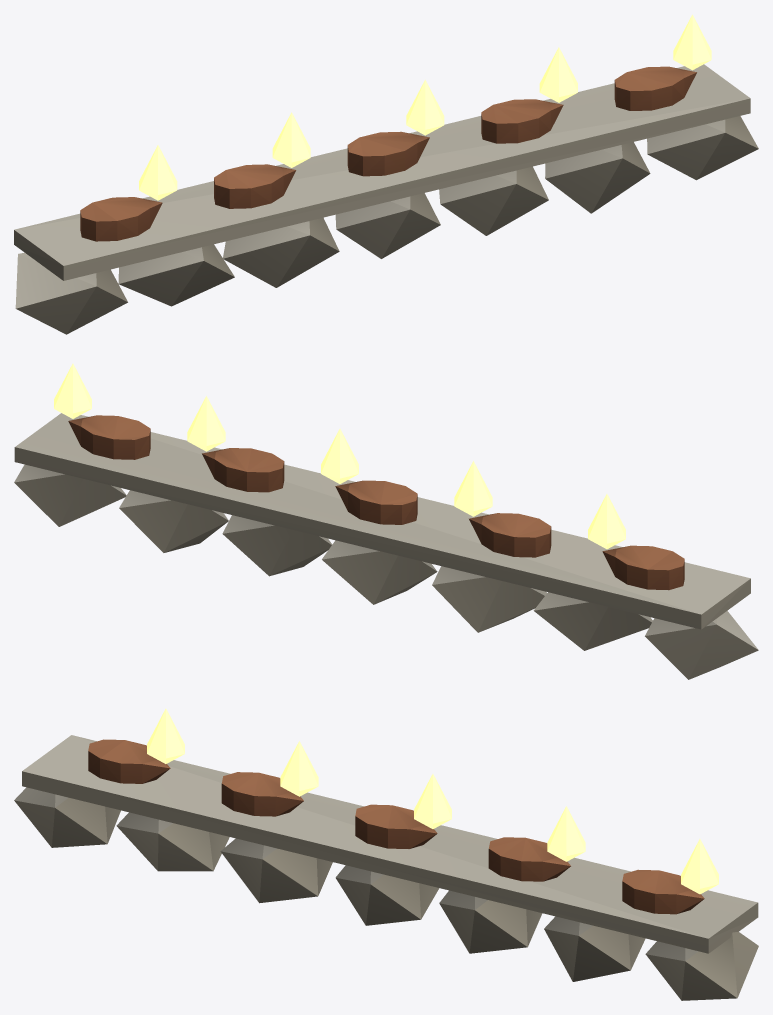
The model's file is oillamps.glb.
3 renders of one model, top to bottom at view 1: azimuth 30°, elevation 25°; view 2: azimuth 150°, elevation 25°; view 3: azimuth 330°, elevation 25°, orthographic.
Parts seen in each view (by area): view 1: base; view 2: base; view 3: base.
Part boxes in pixels (x1,y1,x2,y2): base: (14, 14, 758, 334); base: (14, 363, 758, 679); base: (14, 708, 758, 1000).
Size of the model in its own units: 0.7688 by 0.1625 by 0.0954.
